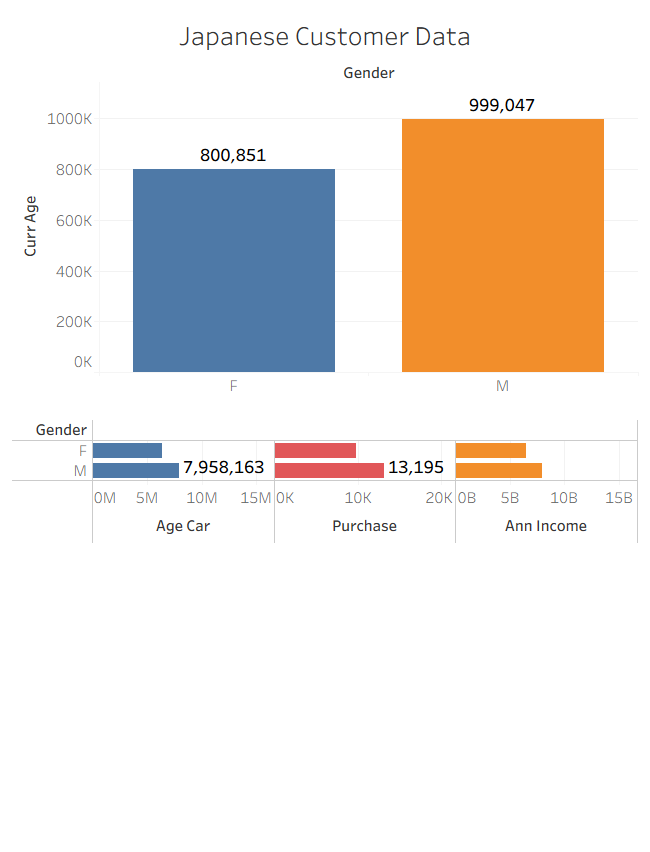

The dashboard page shown, as its layout file describes it:
{"tool":"tableau","page":{"name":"Dashboard 1","canvas":[650,860],"ordinal":0},"visuals":[{"type":"worksheet","title":"Sheet 1","mark":"Automatic","rows":["CURR_AGE"],"cols":["GENDER"],"box":[8,8.1,634,396.7]},{"type":"worksheet","title":"Sheet 2","mark":"Automatic","rows":["GENDER"],"cols":["AGE_CAR","PURCHASE","ANN_INCOME"],"box":[8,404.8,634,148.4]}]}

Visuals, with their boxes in screenshot pixels (x1, y1, x2, y2), scaled from the page's 650x860 canvas onto the 650x852 screenshot:
"Sheet 1" worksheet: (x1=8, y1=8, x2=642, y2=401)
"Sheet 2" worksheet: (x1=8, y1=401, x2=642, y2=548)
